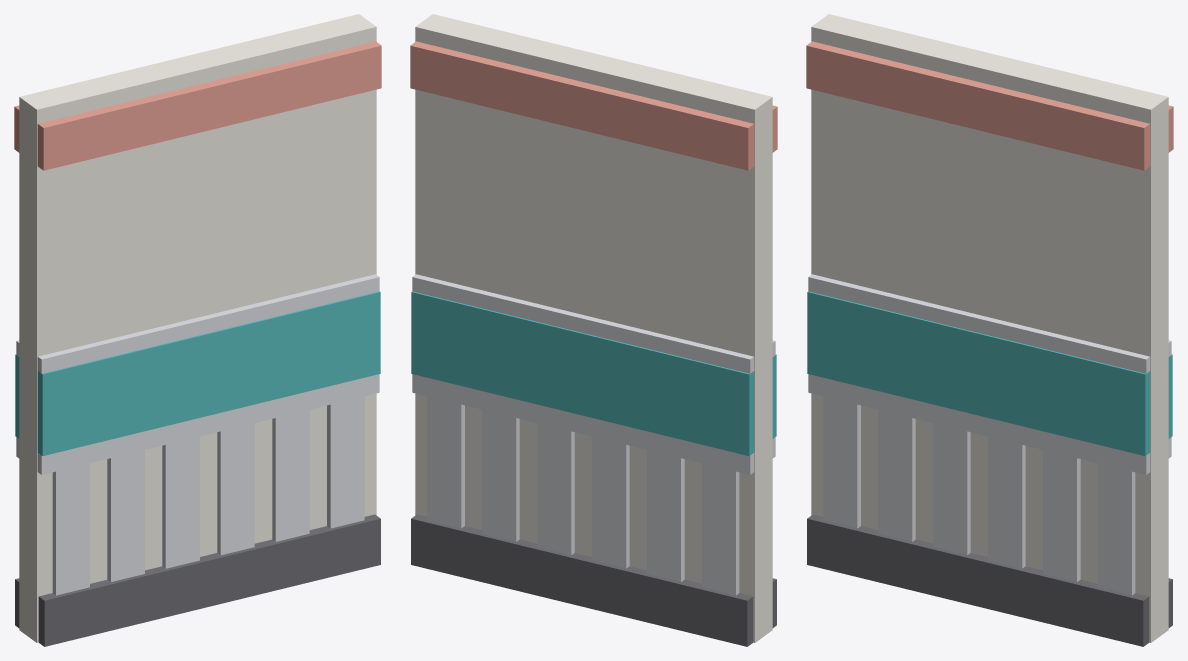
File: retro-diner-and-roadside-motel-diner-car-module-narrow-e0e31a64__37314.glb
3 renders of one model, left to right at view 1: azimuth 30°, elevation 25°; view 2: azimuth 150°, elevation 25°; view 3: azimuth 330°, elevation 25°, orthographic.
Parts seen in each view (by area): view 1: diner-car-module-narrow-cream, diner-car-module-narrow-chrome, diner-car-module-narrow-turquoise, diner-car-module-narrow-asphalt, diner-car-module-narrow-coral; view 2: diner-car-module-narrow-cream, diner-car-module-narrow-chrome, diner-car-module-narrow-turquoise, diner-car-module-narrow-asphalt, diner-car-module-narrow-coral; view 3: diner-car-module-narrow-cream, diner-car-module-narrow-chrome, diner-car-module-narrow-turquoise, diner-car-module-narrow-asphalt, diner-car-module-narrow-coral.
Part boxes in pixels (x1,y1,x2,y2): diner-car-module-narrow-cream: (19,14,376,642); diner-car-module-narrow-chrome: (16,274,379,595); diner-car-module-narrow-turquoise: (15,291,380,455); diner-car-module-narrow-asphalt: (15,514,380,646); diner-car-module-narrow-coral: (14,41,381,170); diner-car-module-narrow-cream: (415,14,772,642); diner-car-module-narrow-chrome: (412,274,775,595); diner-car-module-narrow-turquoise: (411,291,776,455); diner-car-module-narrow-asphalt: (411,514,776,646); diner-car-module-narrow-coral: (410,41,777,170); diner-car-module-narrow-cream: (811,14,1168,642); diner-car-module-narrow-chrome: (808,274,1171,595); diner-car-module-narrow-turquoise: (807,291,1172,455); diner-car-module-narrow-asphalt: (807,514,1172,646); diner-car-module-narrow-coral: (806,41,1173,170).
Bounding box in the file's own units: 2 × 3 × 0.3.
